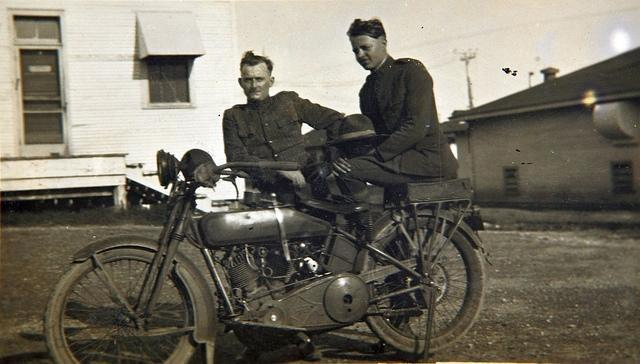motorcycle: (45, 150, 486, 363)
